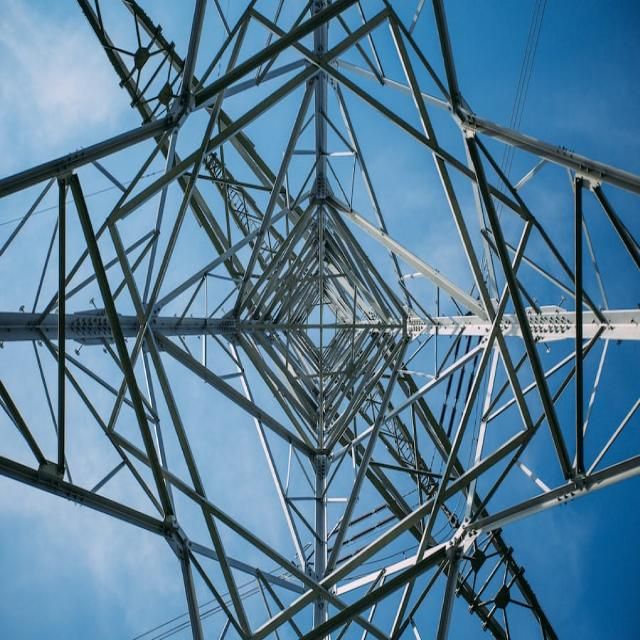transmission tower: (45, 19, 616, 636)
